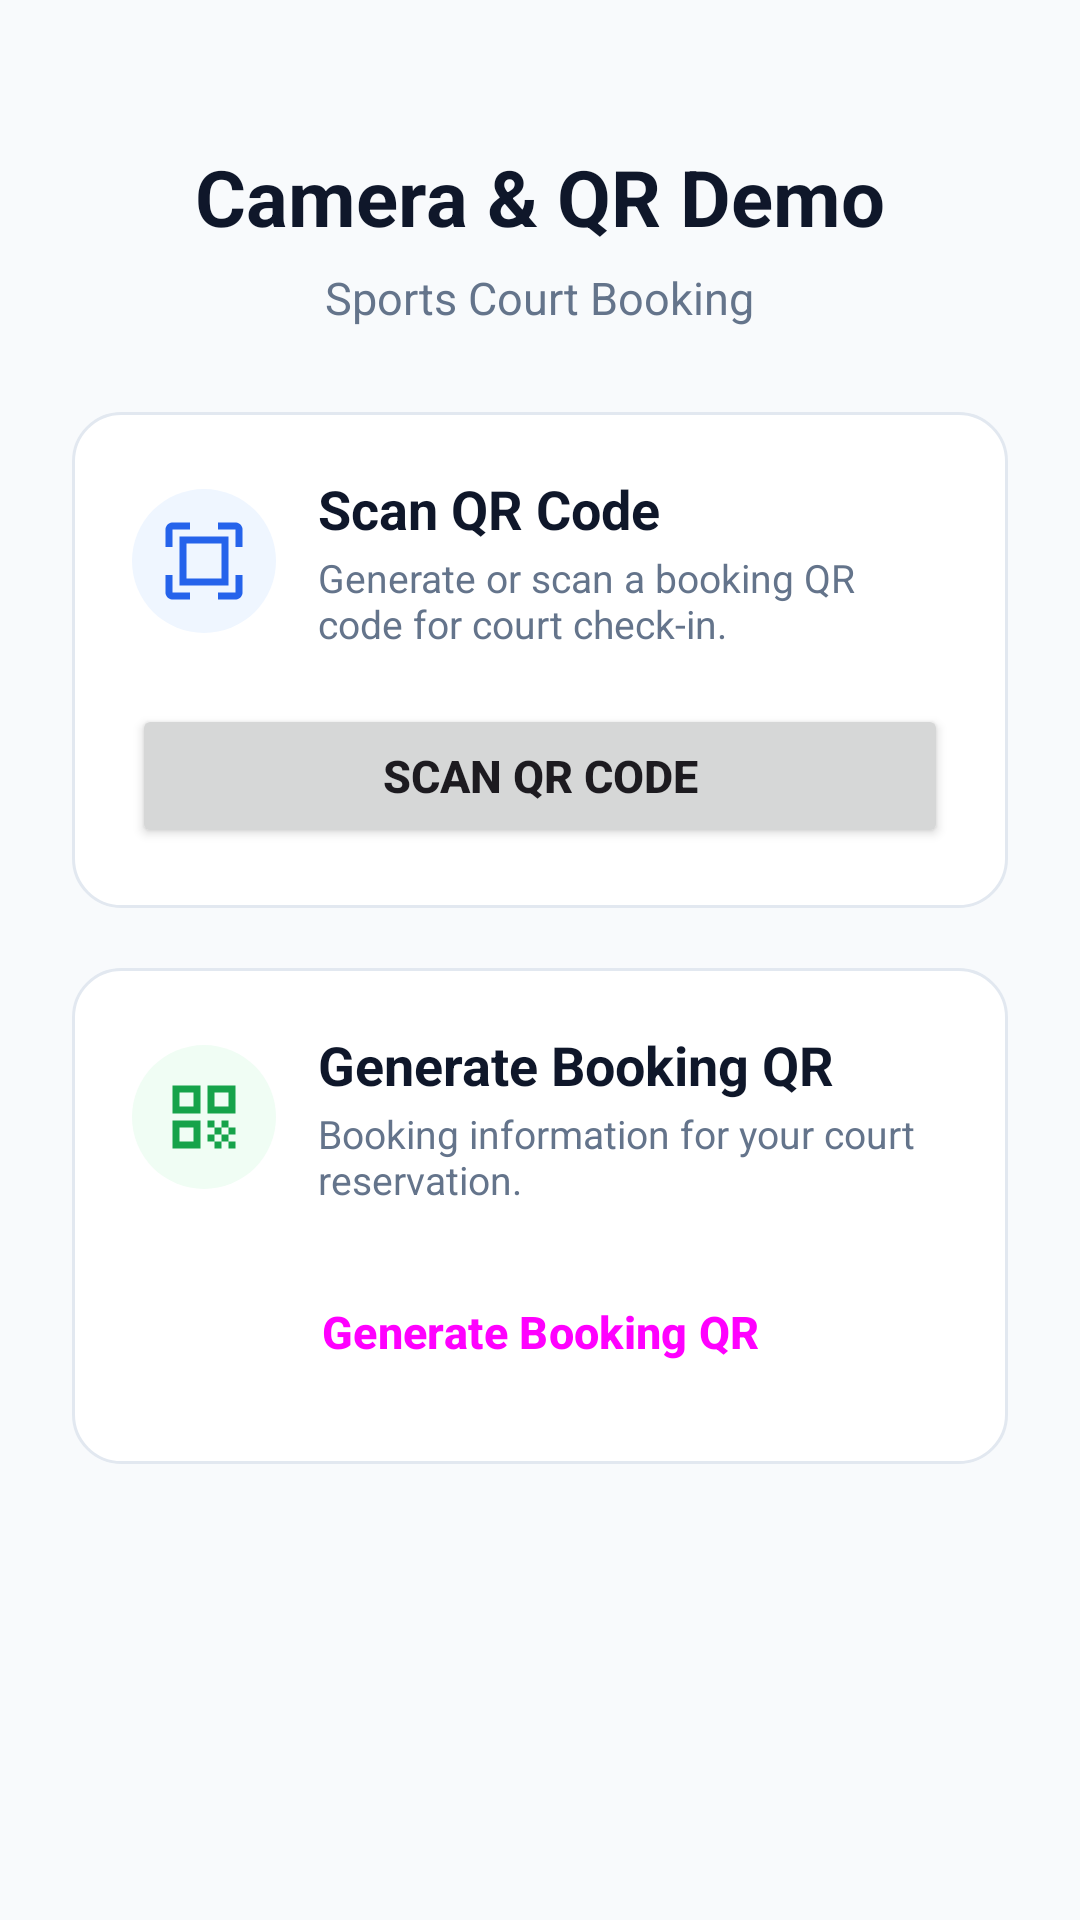

Icon bounding boxes for this 1080w x 1920h phone screenshot, format {"x1": x1, "y1": y1, "x2": x2, "y2": y2}:
qr code: {"x1": 172, "y1": 1085, "x2": 236, "y2": 1149}
